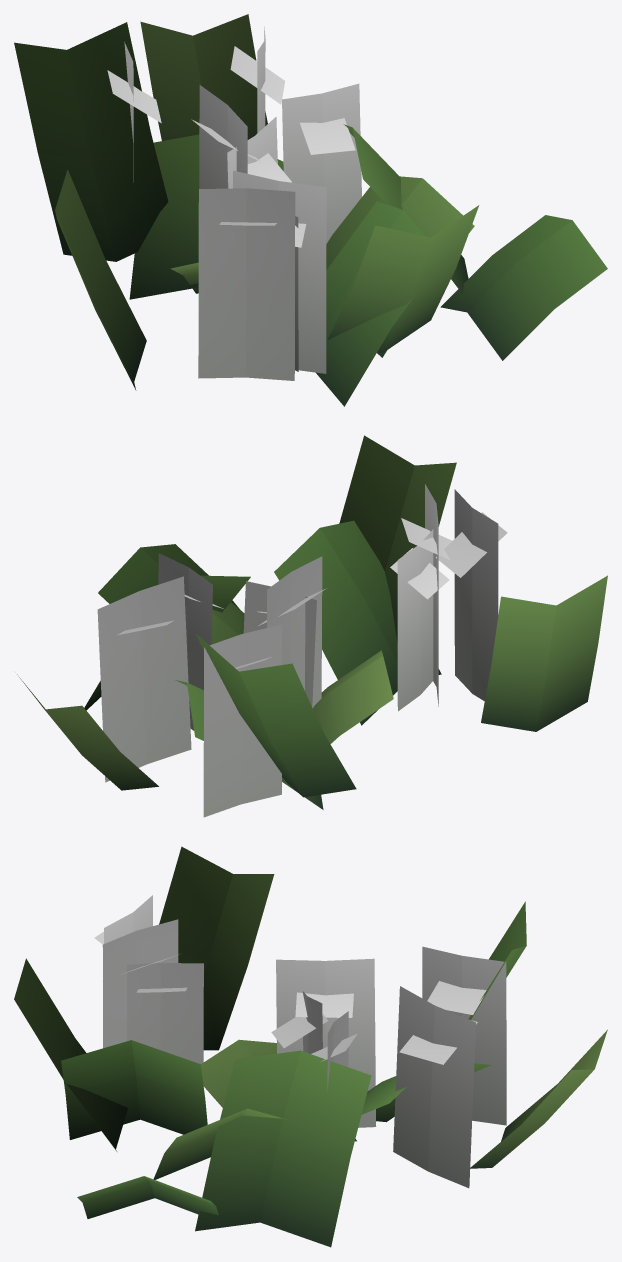
The model's file is gazania_b.glb.
The picture shows the model from 3 angles, top to bottom: view 1: azimuth 30°, elevation 25°; view 2: azimuth 150°, elevation 25°; view 3: azimuth 270°, elevation 25°; orthographic projection. The views are drawn at different scales.
Visible parts, largest first — view 1: isl_gazania_b; view 2: isl_gazania_b; view 3: isl_gazania_b.
Part boxes in pixels (box(x1,y1,x2,y2)): isl_gazania_b: box(14, 14, 607, 406); isl_gazania_b: box(17, 435, 607, 817); isl_gazania_b: box(14, 846, 607, 1247).
Size of the model in its own units: 0.3625 by 0.1473 by 0.3919.
